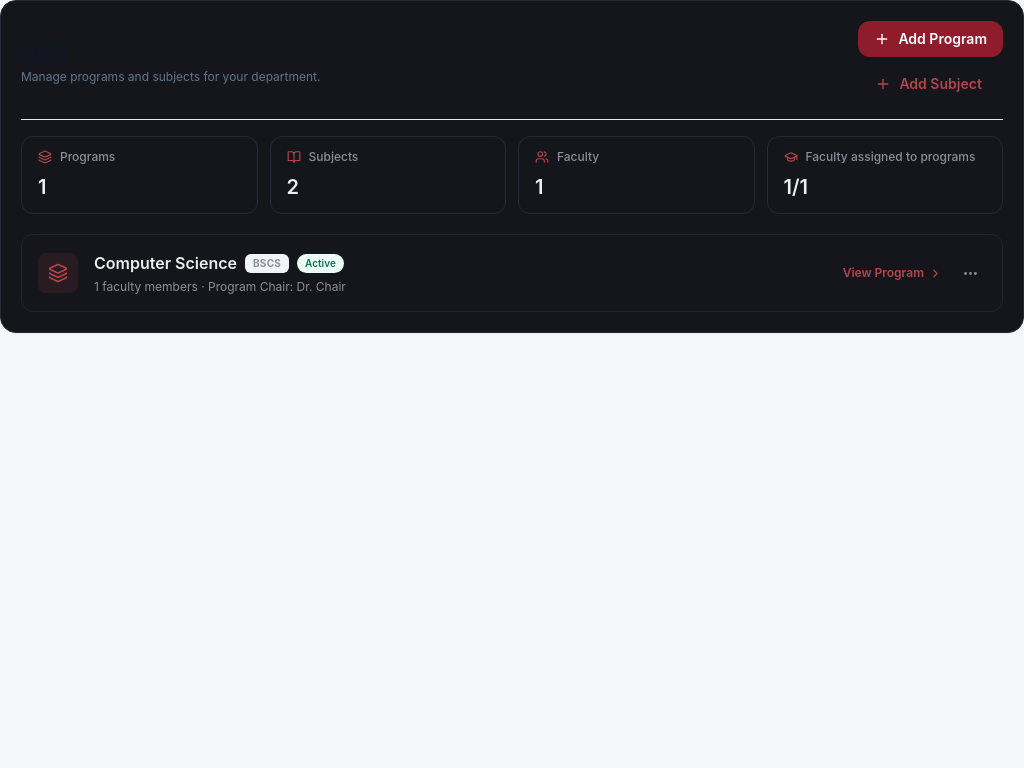
Scenario: Department Admin can add a subject from the department header and must choose its program
What coordinates should you click on to do the following:
click the button "Add Subject"
I would click on:
 (929, 84)
Its box is [858,65,999,103].
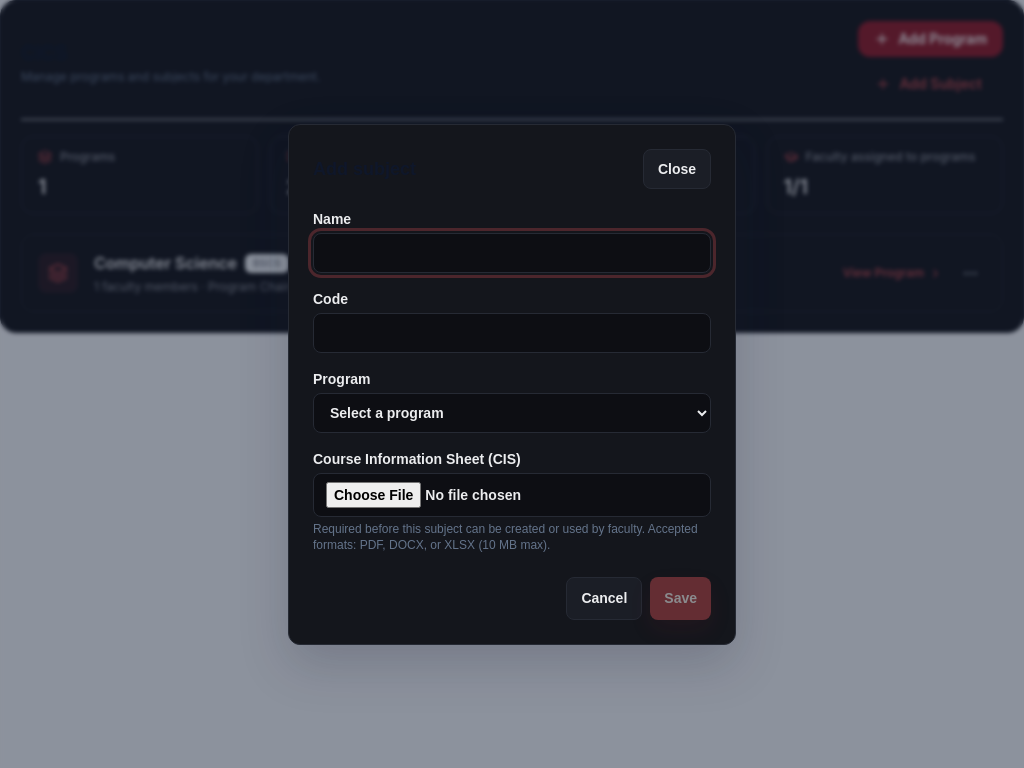
Expected: the button "Save" is disabled, [650,576,711,620]
